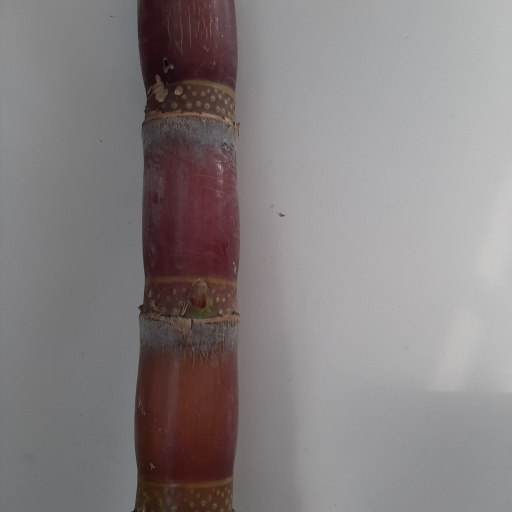Bud: (189, 279, 213, 311)
